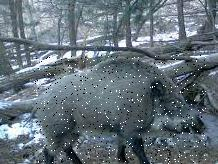Hog: (34, 55, 206, 164)
